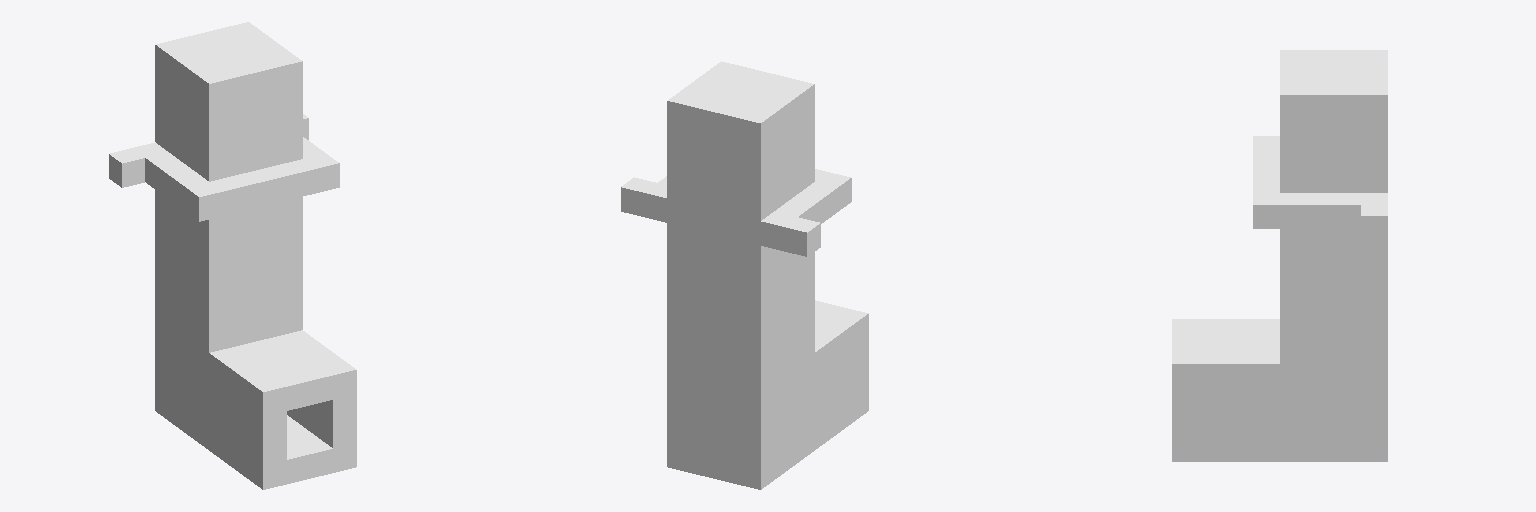
File: pipe_end.obj
3 views of the same model, side by side, from view 1: azimuth 30°, elevation 25°; view 2: azimuth 150°, elevation 25°; view 3: azimuth 270°, elevation 25° (orthographic).
Visible parts, largest first — view 1: object 1; view 2: object 1; view 3: object 1.
Boxes of the visible parts, box(x1,y1,x2,y2) form: object 1: box(109, 22, 356, 489); object 1: box(621, 61, 868, 489); object 1: box(1172, 50, 1387, 461).
Bounding box in the file's own units: 0.8 × 1.5 × 0.8.